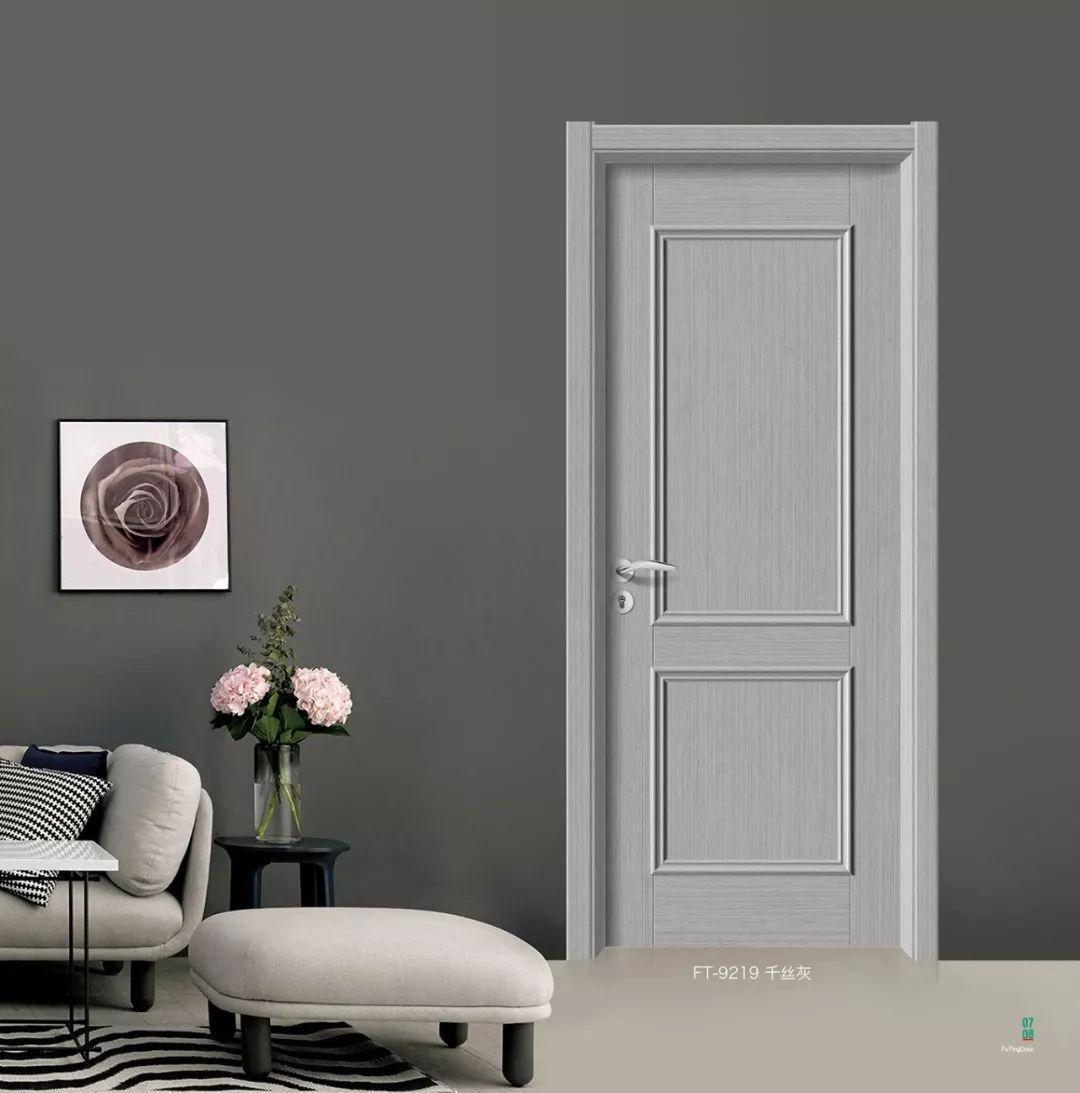door: (612, 164, 913, 943)
